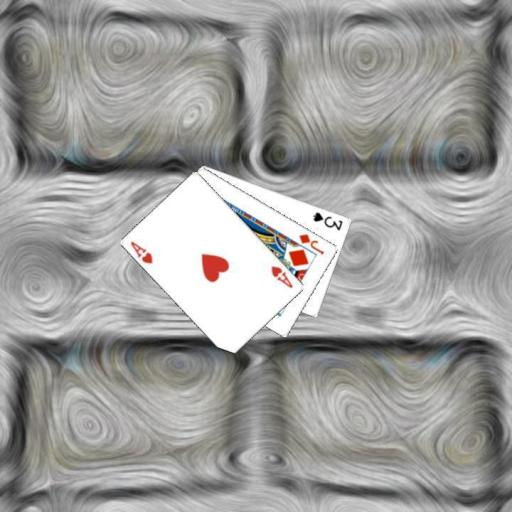card-corner: (310, 209, 344, 232), (296, 230, 326, 256), (268, 262, 294, 290), (128, 238, 154, 265)
